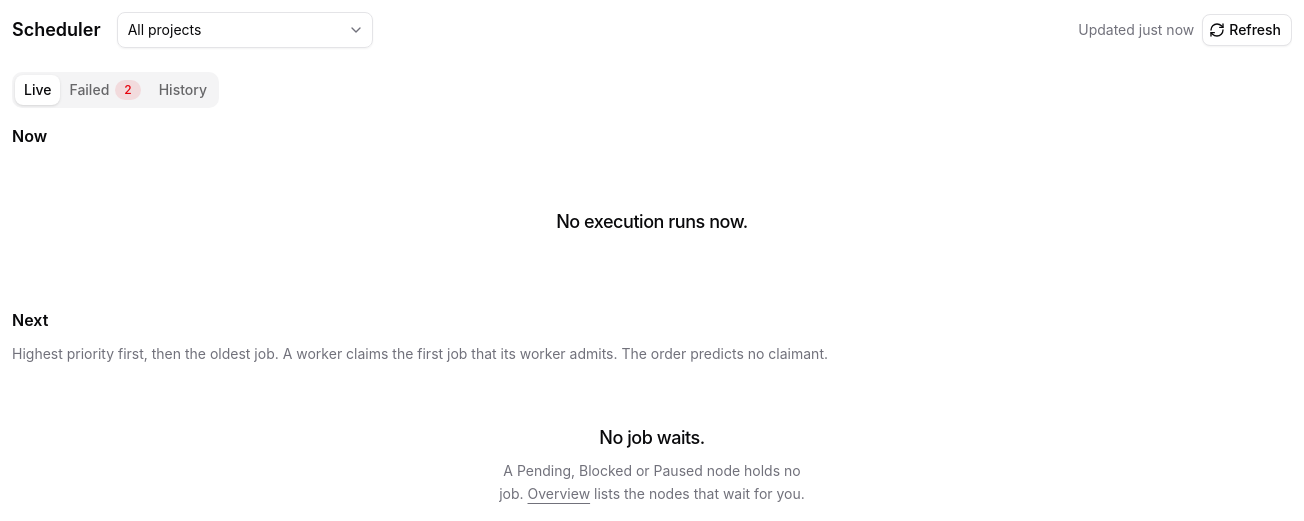
SchedulerScreen views › lists the failed executions newest first and counts them on the tab
This screenshot has width=1304, height=521.
Click the tab "Failed 2" at {"x": 105, "y": 90}, box 60,75 -> 150,105
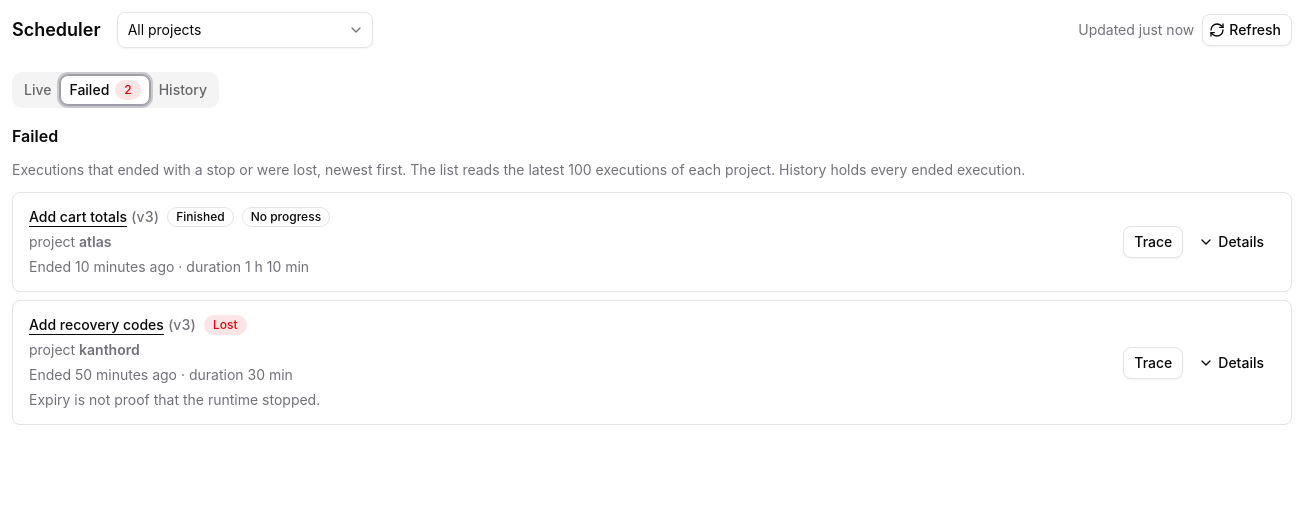
Expected: the text "No progress" is shown, 242,207 -> 330,227
Expected: the icon "Lost" is shown, 204,315 -> 246,335
